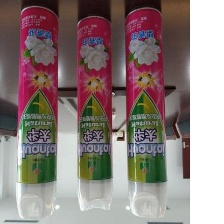aerosol_cans: (13, 2, 62, 221), (123, 3, 170, 220), (74, 13, 115, 213)
